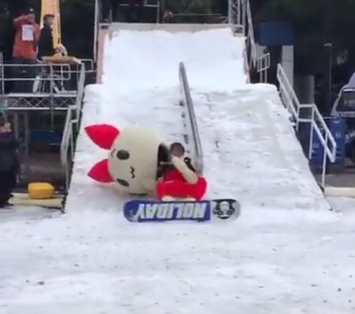falling: (151, 135, 212, 203)
